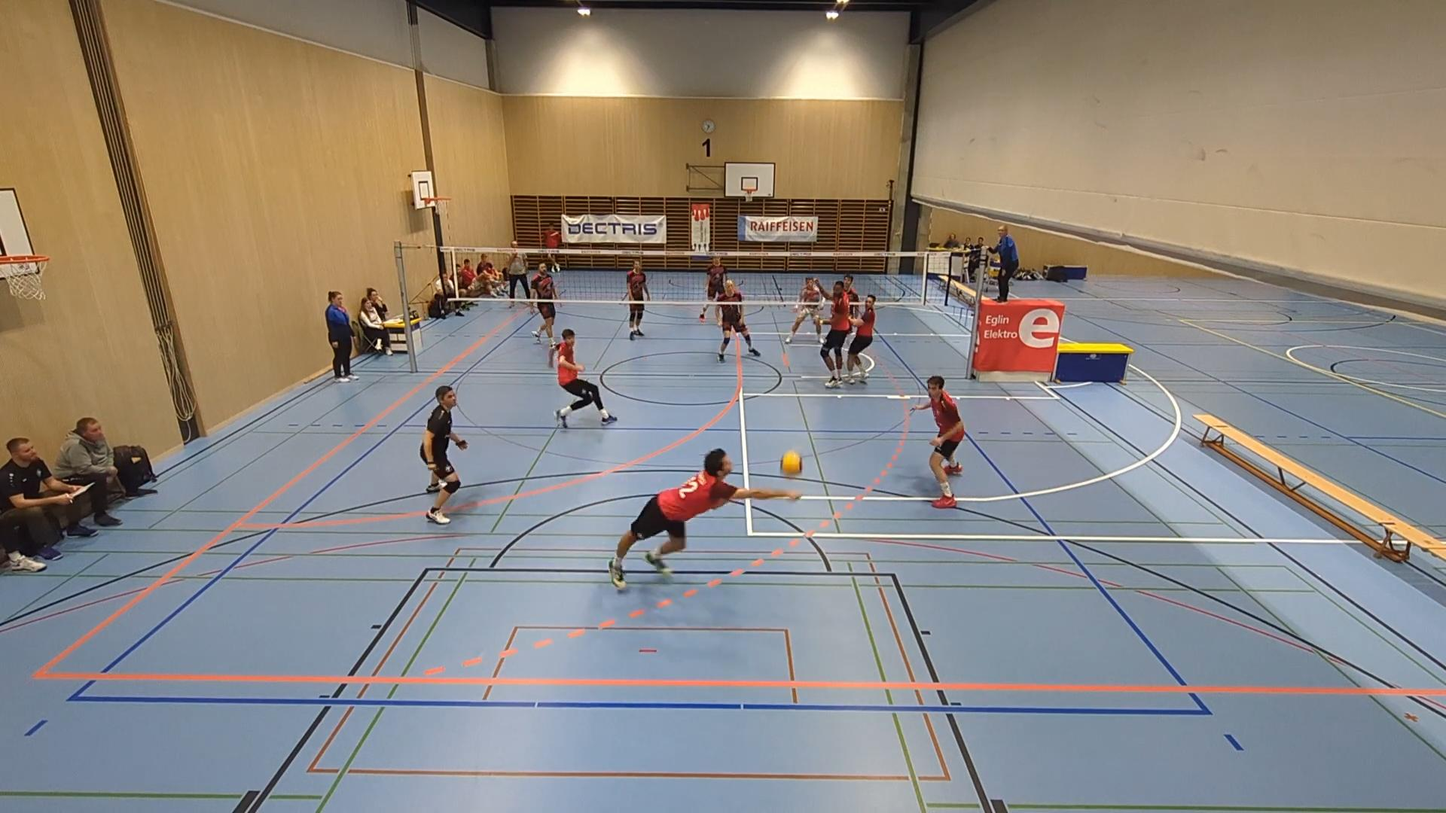difesa: (606, 443, 811, 587)
